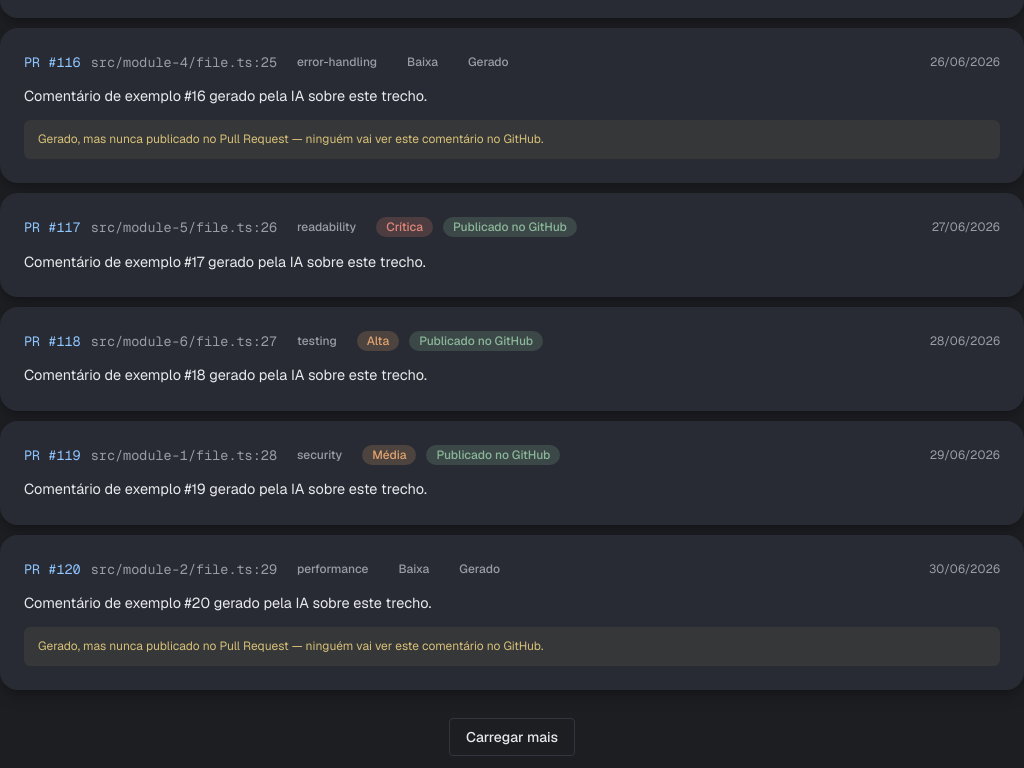
Test case: CommentsPage › loads more comments and appends without duplicating
(page scrolled)
What coordinates should you click on to do the following:
click the button "Carregar mais"
I would click on:
 (512, 737)
Its box is [449,718,575,756].
(page scrolled)
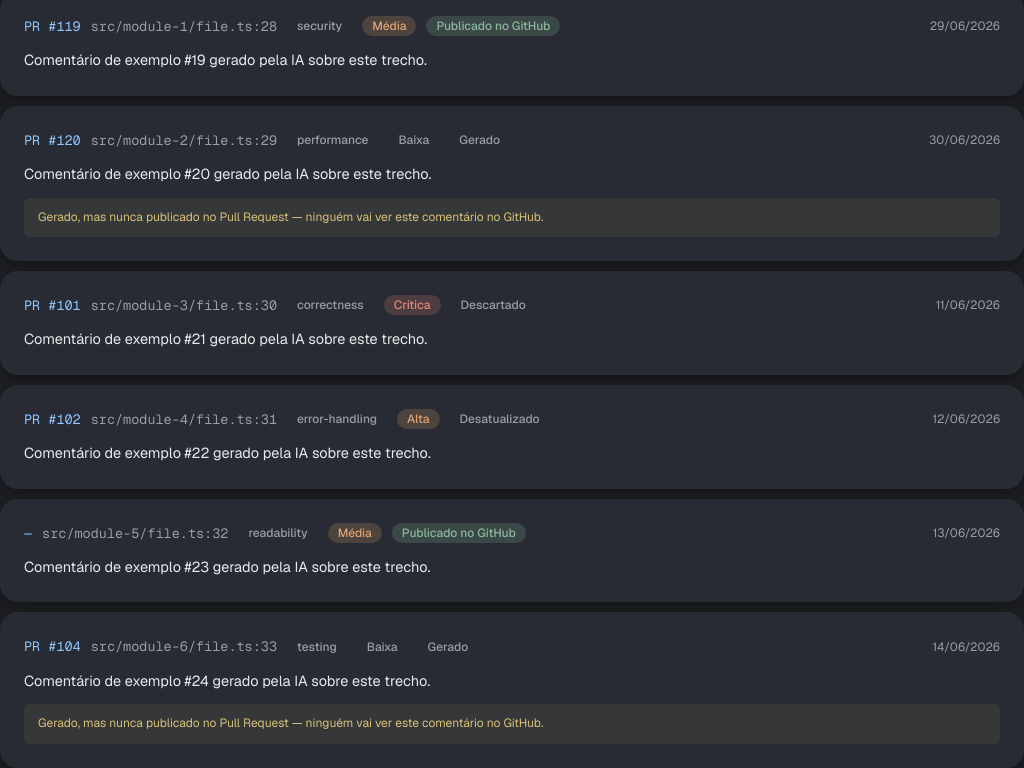
Result: the text "Comentário de exemplo #24 gerado pela IA sobre este trecho." is shown at [24,671,430,690]
Result: the button "Carregar mais" is gone
